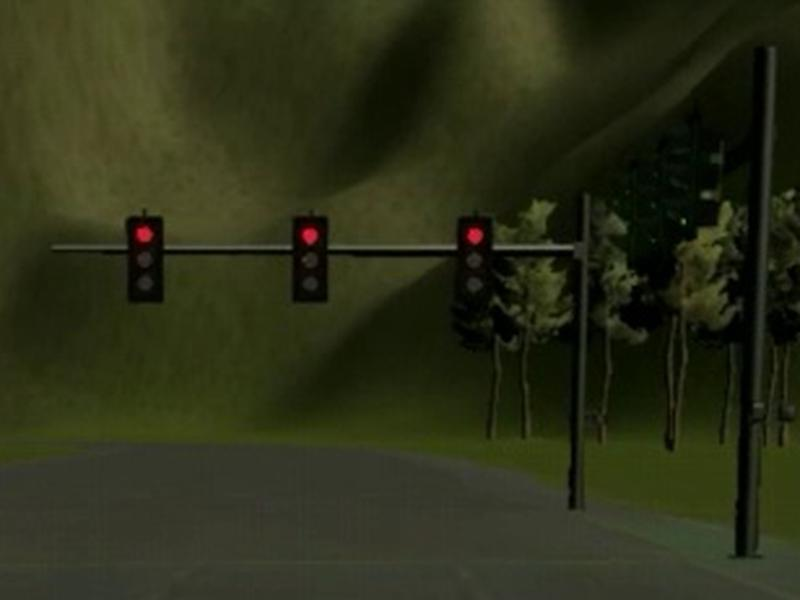Red: (455, 217, 494, 305), (126, 216, 165, 302), (291, 215, 327, 302)
